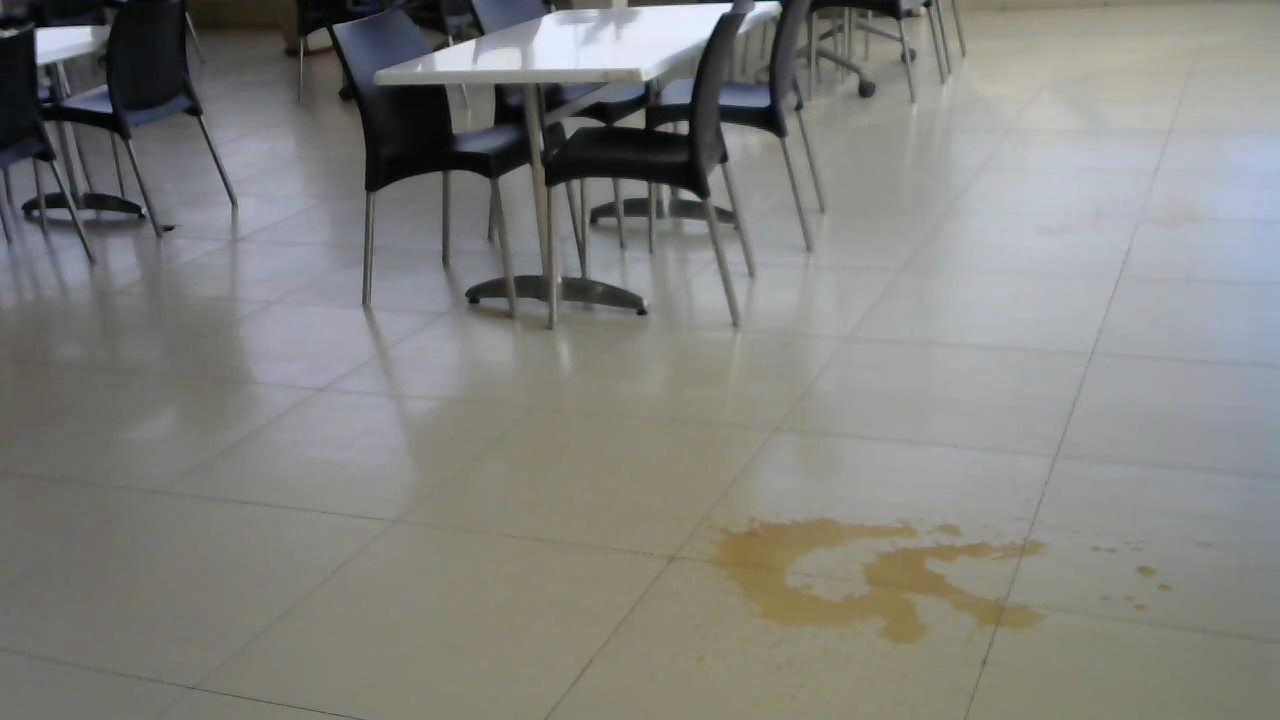dirty_floor: (693, 490, 1221, 660)
